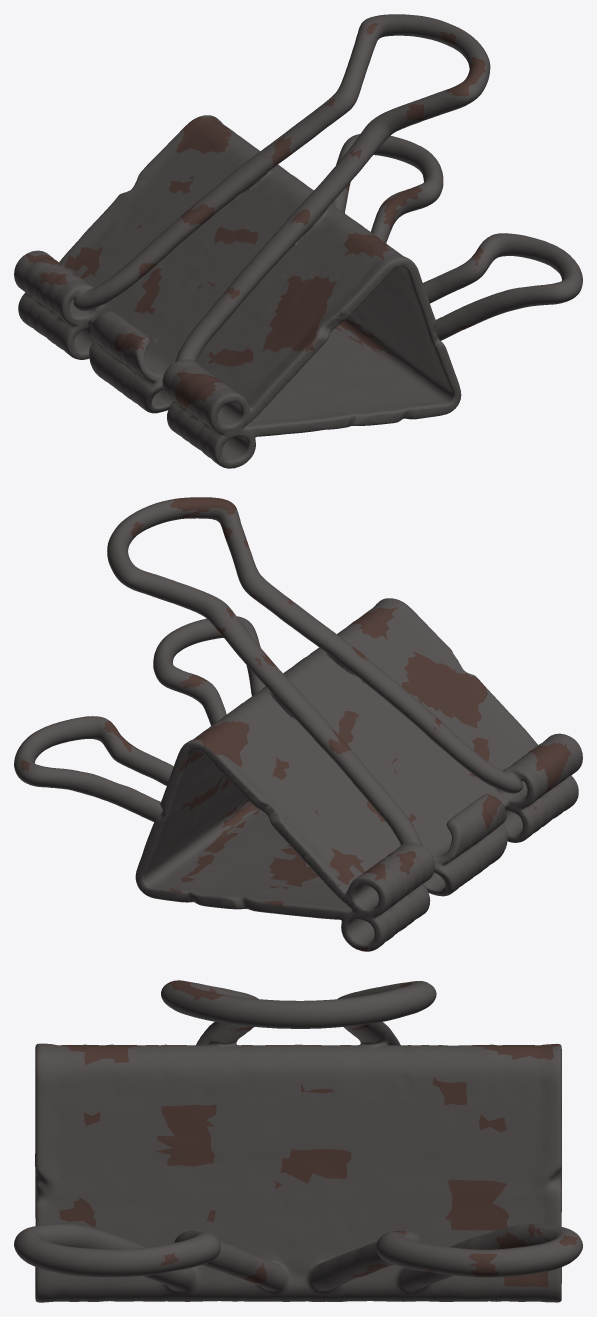
File: broche_papel_pintado.fbx
3 views of the same model, one above another, from view 1: azimuth 30°, elevation 25°; view 2: azimuth 150°, elevation 25°; view 3: azimuth 270°, elevation 25° (orthographic). The views are drawn at different scales.
Parts seen in each view (by area): view 1: tmp0s_8szye.ply; view 2: tmp0s_8szye.ply; view 3: tmp0s_8szye.ply.
Part boxes in pixels (x1,y1,x2,y2): tmp0s_8szye.ply: (14, 14, 582, 468); tmp0s_8szye.ply: (14, 497, 582, 951); tmp0s_8szye.ply: (14, 980, 582, 1302).
Bounding box in the file's own units: 199 × 139 × 190.
